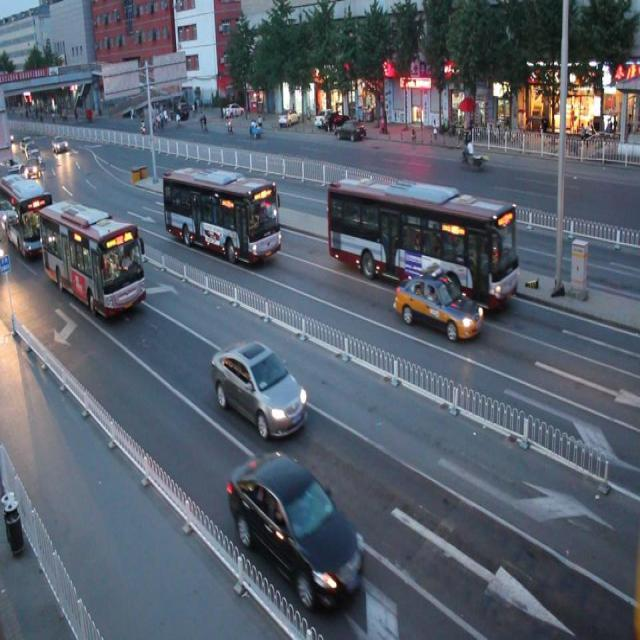car: (227, 450, 364, 610), (211, 339, 307, 438), (394, 270, 481, 342)
van: (327, 172, 517, 309), (40, 201, 145, 320), (164, 165, 281, 264)
